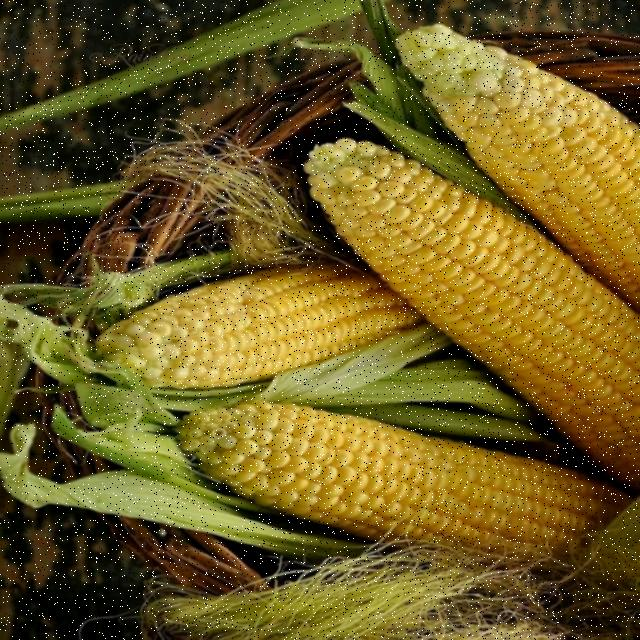Corn: (341, 12, 640, 445), (179, 402, 640, 568), (59, 260, 408, 373)
